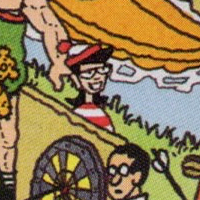wenda: (68, 40, 112, 110)
